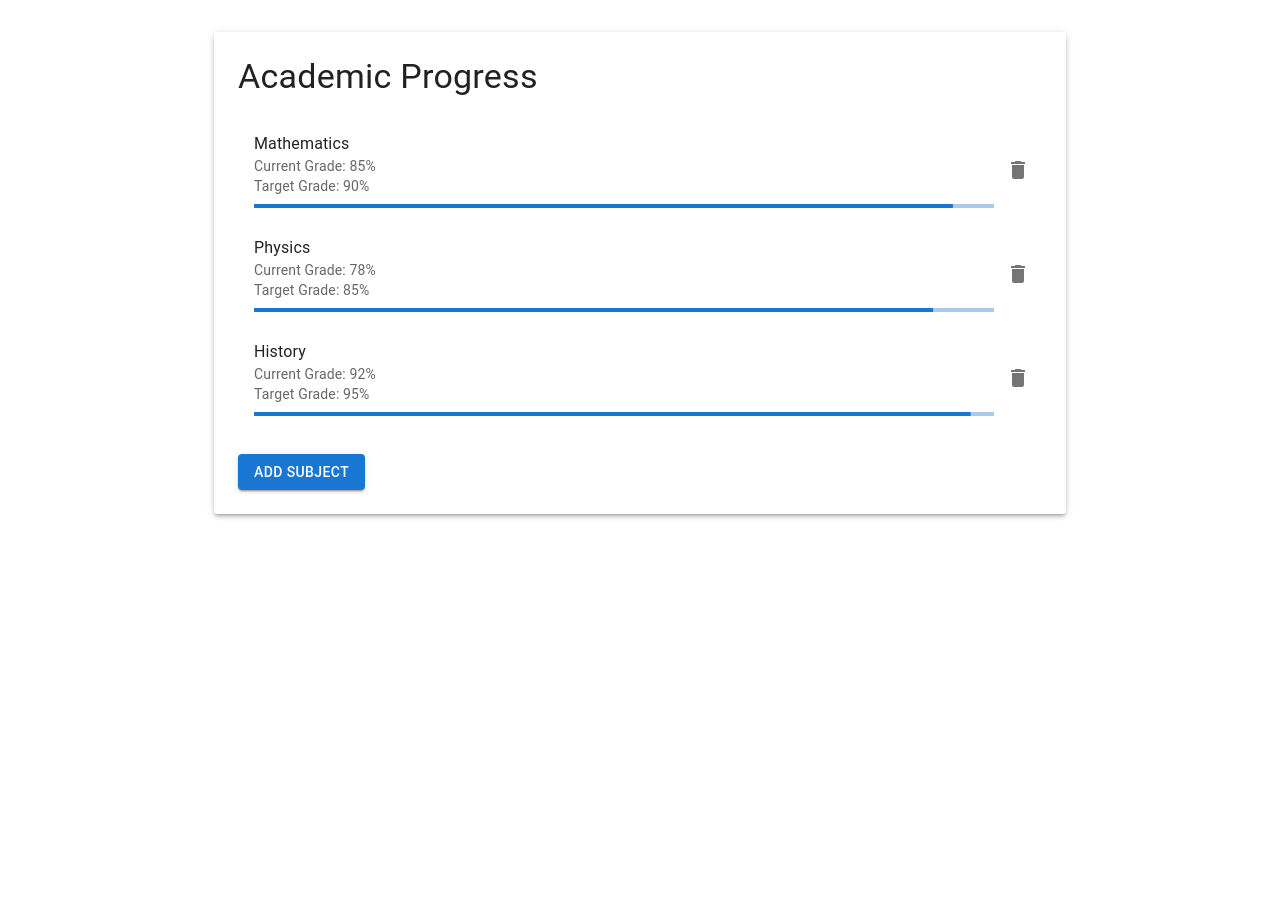
Test case: Progress Component › opens add subject dialog when clicking add button
This screenshot has width=1280, height=900.
Click the button "Add Subject".
click(302, 472)  # box [238, 454, 365, 490]
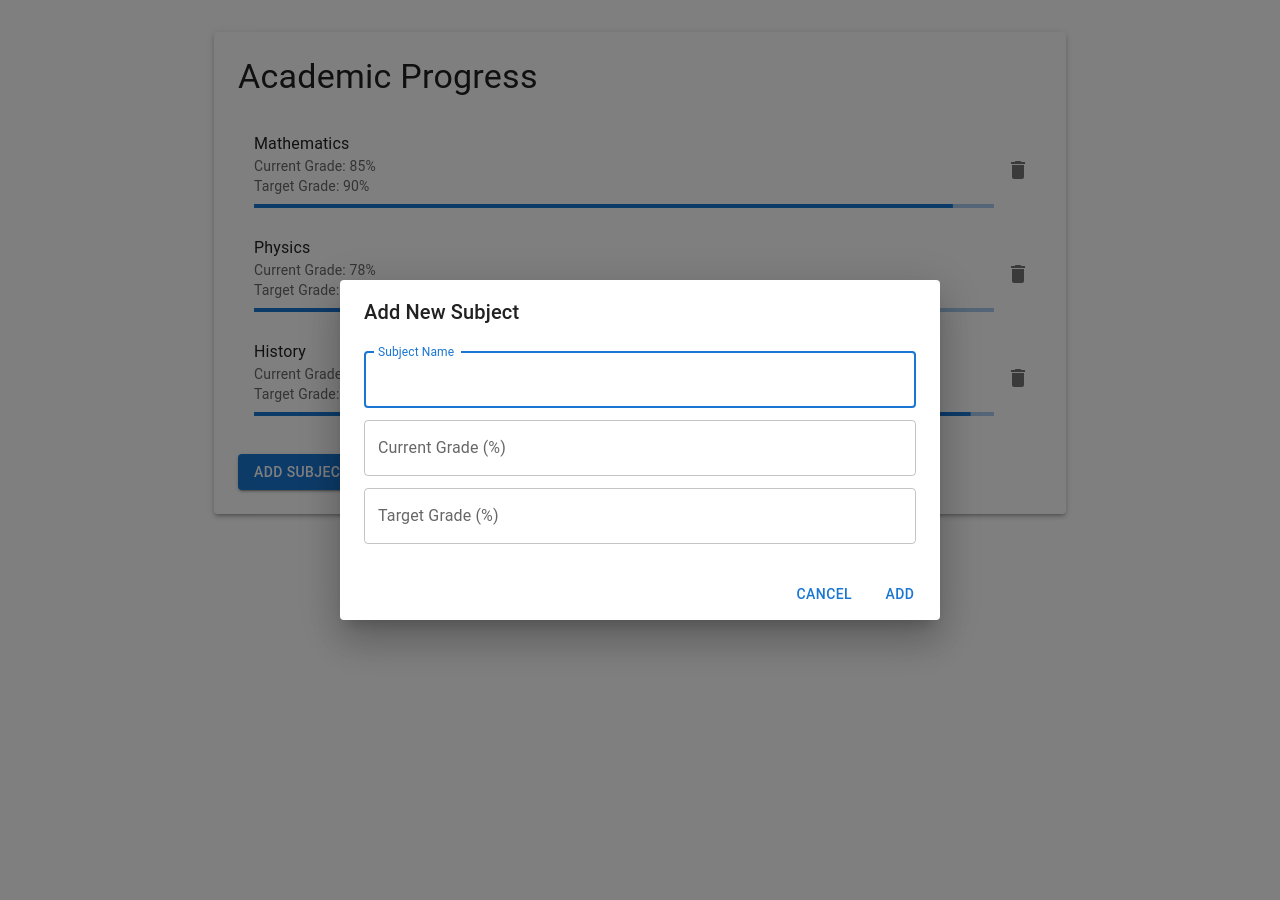
Now the heading "Add New Subject" is shown, box [364, 300, 519, 324]
